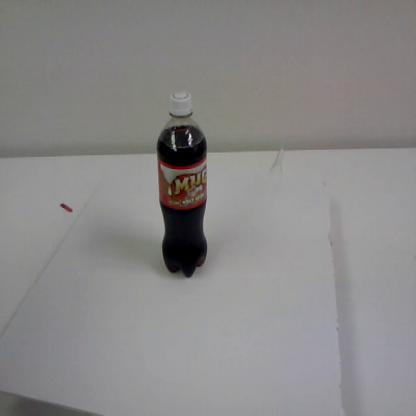bottle: (154, 87, 210, 281)
